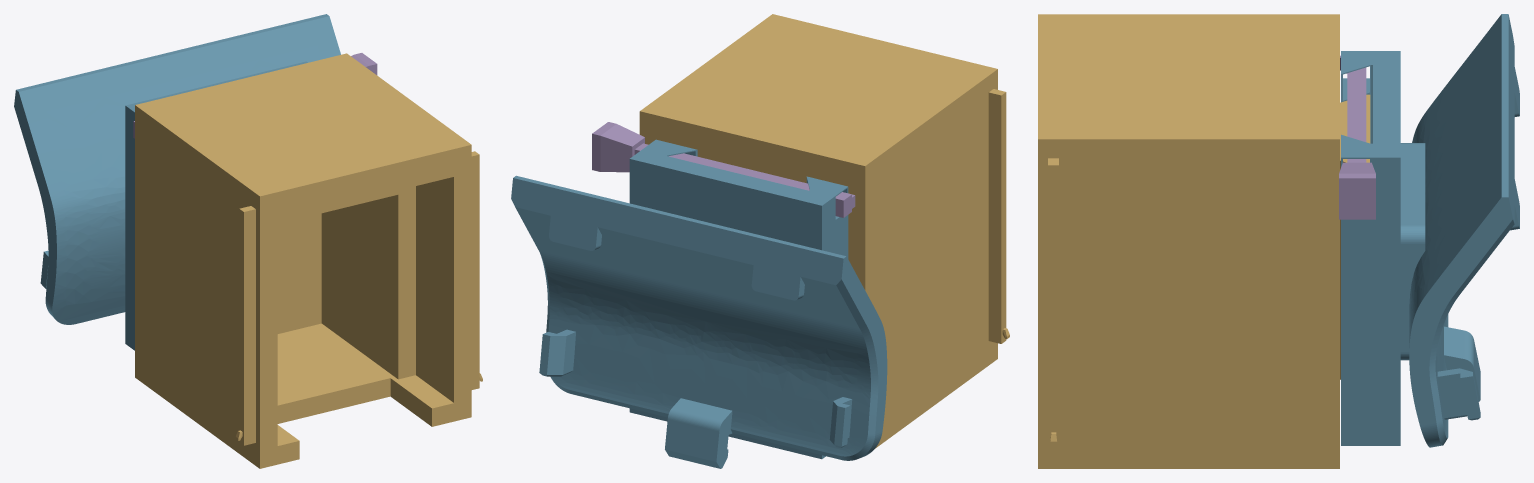
Rendered from Vader5Pro_V22_Assembly_USB_Up_Inspection.glb.
The picture shows the model from 3 angles, left to right: view 1: azimuth 30°, elevation 25°; view 2: azimuth 150°, elevation 25°; view 3: azimuth 270°, elevation 25°; orthographic projection. The views are drawn at different scales.
Visible parts, largest first — view 1: G7_V22_Box2_USB_Up, Original_Vader5Pro_Cover_with_G7_V22_Receiver; view 2: Original_Vader5Pro_Cover_with_G7_V22_Receiver, G7_V22_Box2_USB_Up, G7_V22_Lock_Key; view 3: G7_V22_Box2_USB_Up, Original_Vader5Pro_Cover_with_G7_V22_Receiver, G7_V22_Lock_Key.
Part boxes in pixels (left/top/right/bottom): G7_V22_Box2_USB_Up: left=135, top=53, right=482, bottom=468; Original_Vader5Pro_Cover_with_G7_V22_Receiver: left=14, top=14, right=340, bottom=350; Original_Vader5Pro_Cover_with_G7_V22_Receiver: left=511, top=139, right=887, bottom=468; G7_V22_Box2_USB_Up: left=639, top=14, right=1009, bottom=448; G7_V22_Lock_Key: left=592, top=122, right=855, bottom=217; G7_V22_Box2_USB_Up: left=1038, top=14, right=1370, bottom=468; Original_Vader5Pro_Cover_with_G7_V22_Receiver: left=1341, top=14, right=1519, bottom=447; G7_V22_Lock_Key: left=1339, top=55, right=1375, bottom=219.
Size of the model in its own units: 35.2 by 29.5 by 39.1.
